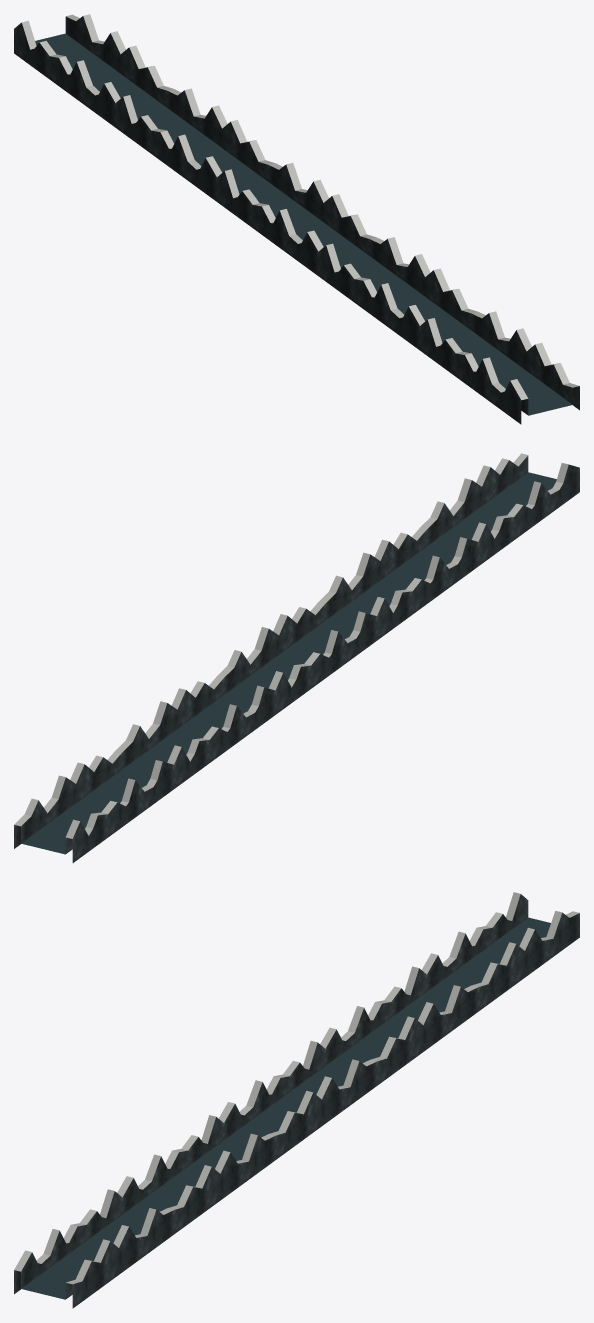
File: OT_046_broken_wall_deco_var2.glb
3 renders of one model, top to bottom at view 1: azimuth 30°, elevation 25°; view 2: azimuth 150°, elevation 25°; view 3: azimuth 330°, elevation 25°, orthographic.
Parts seen in each view (by area): view 1: broken_wall.001, broken_wall.004, broken_wall.003, broken_wall.002, broken_wall.005; view 2: broken_wall.005, broken_wall.003, broken_wall.002, broken_wall.004, broken_wall.001; view 3: broken_wall.001, broken_wall.005, broken_wall.003, broken_wall.002, broken_wall.004.
Boxes of the visible parts, x1=… form: broken_wall.001: x1=420, y1=311, x2=579, y2=424; broken_wall.004: x1=115, y1=88, x2=274, y2=201; broken_wall.003: x1=217, y1=163, x2=376, y2=275; broken_wall.002: x1=318, y1=237, x2=477, y2=350; broken_wall.005: x1=14, y1=14, x2=173, y2=127; broken_wall.005: x1=14, y1=750, x2=173, y2=862; broken_wall.003: x1=217, y1=602, x2=376, y2=714; broken_wall.002: x1=319, y1=527, x2=478, y2=640; broken_wall.004: x1=115, y1=676, x2=275, y2=788; broken_wall.001: x1=420, y1=453, x2=579, y2=565; broken_wall.001: x1=14, y1=1189, x2=173, y2=1308; broken_wall.005: x1=422, y1=892, x2=579, y2=1011; broken_wall.003: x1=218, y1=1041, x2=376, y2=1159; broken_wall.002: x1=117, y1=1115, x2=275, y2=1234; broken_wall.004: x1=320, y1=966, x2=478, y2=1085.
Bounding box in the file's own units: 0.75 × 0.5008 × 11.25.
3 materials, 1 textured.
